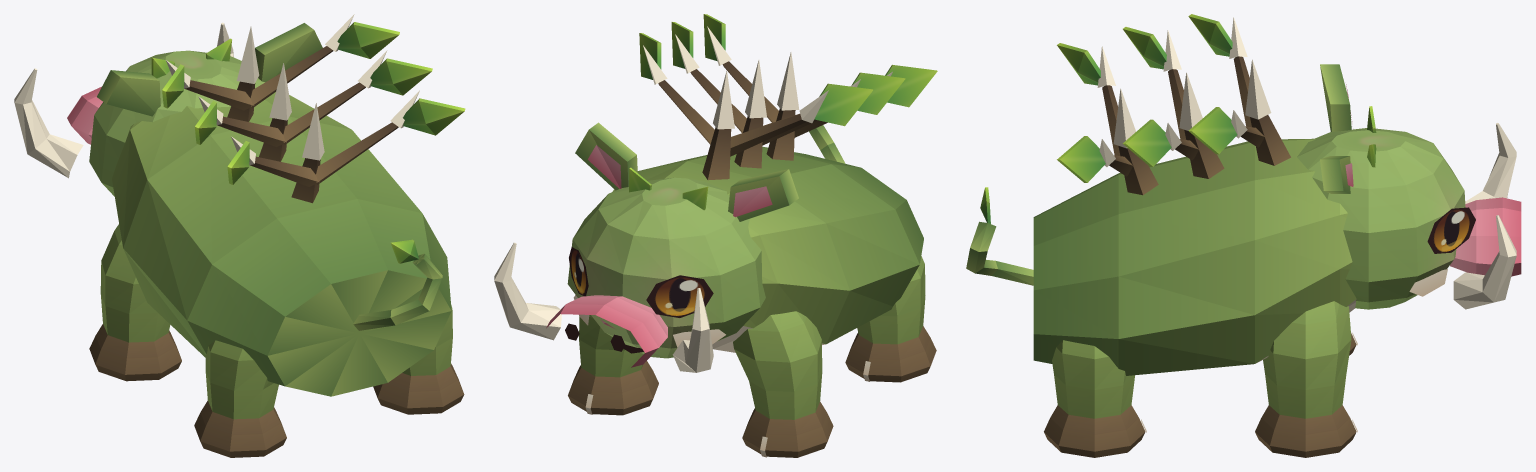
File: BrambleBoar_S6_FacetedReview.glb
3 renders of one model, left to right at view 1: azimuth 30°, elevation 25°; view 2: azimuth 150°, elevation 25°; view 3: azimuth 270°, elevation 25°, orthographic. The views are drawn at different scales.
Visible parts, largest first — view 1: Body, LeftFrontLeg, LeftBackLeg, Head, RightBackLeg, LeftTusk, RightEar, LeftEar, Tail, AdultLeaf21, AdultLeaf11, AdultLeaf01 (+17 smaller); view 2: Body, Head, LeftFrontLeg, LeftBackLeg, RightFrontLeg, Snout, RightTusk, LeftEye, LeftTusk, LeftEar, RightEar, AdultLeaf0-1 (+19 smaller); view 3: Body, Head, RightFrontLeg, RightBackLeg, Snout, RightTusk, Tail, RightEye, LeftEar, LeftTusk, AdultLeaf01, AdultLeaf11 (+15 smaller).
Part boxes in pixels (x1=…): Body: x1=112, y1=92, x2=451, y2=396; LeftFrontLeg: x1=89, y1=224, x2=181, y2=381; LeftBackLeg: x1=194, y1=340, x2=286, y2=457; Head: x1=89, y1=50, x2=274, y2=196; RightBackLeg: x1=373, y1=304, x2=464, y2=414; LeftTusk: x1=14, y1=68, x2=83, y2=178; RightEar: x1=255, y1=23, x2=322, y2=82; LeftEar: x1=97, y1=70, x2=160, y2=116; Tail: x1=353, y1=253, x2=442, y2=330; AdultLeaf21: x1=403, y1=98, x2=465, y2=135; AdultLeaf11: x1=370, y1=58, x2=432, y2=95; AdultLeaf01: x1=337, y1=22, x2=399, y2=58; Body: x1=612, y1=146, x2=923, y2=352; Head: x1=567, y1=177, x2=765, y2=358; LeftFrontLeg: x1=733, y1=311, x2=833, y2=457; LeftBackLeg: x1=845, y1=256, x2=936, y2=382; RightFrontLeg: x1=568, y1=315, x2=658, y2=415; Snout: x1=546, y1=295, x2=667, y2=367; RightTusk: x1=494, y1=242, x2=561, y2=340; LeftEye: x1=646, y1=275, x2=713, y2=317; LeftTusk: x1=673, y1=288, x2=713, y2=372; LeftEar: x1=728, y1=169, x2=798, y2=221; RightEar: x1=575, y1=122, x2=637, y2=190; AdultLeaf0-1: x1=814, y1=83, x2=872, y2=126; Body: x1=1033, y1=138, x2=1356, y2=375; Head: x1=1297, y1=128, x2=1465, y2=309; RightFrontLeg: x1=1255, y1=301, x2=1356, y2=457; RightBackLeg: x1=1044, y1=340, x2=1145, y2=457; Snout: x1=1450, y1=197, x2=1521, y2=276; RightTusk: x1=1453, y1=215, x2=1516, y2=309; Tail: x1=966, y1=221, x2=1033, y2=285; RightEye: x1=1427, y1=207, x2=1475, y2=253; LeftEar: x1=1320, y1=64, x2=1351, y2=131; LeftTusk: x1=1465, y1=123, x2=1516, y2=203; AdultLeaf01: x1=1188, y1=107, x2=1237, y2=154; AdultLeaf11: x1=1122, y1=119, x2=1171, y2=166.
Size of the model in its own units: 8.14 by 10 by 14.97.
Materials: 1 (1 with a texture image).
